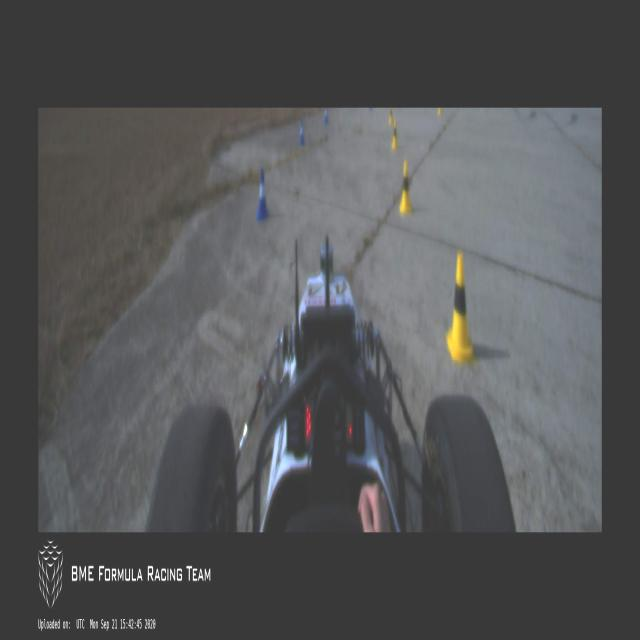blue_cone: (256, 166, 268, 222), (299, 118, 305, 146), (324, 108, 328, 126)
yellow_cone: (445, 253, 477, 364), (399, 159, 414, 215), (392, 119, 398, 150), (388, 108, 392, 124)
